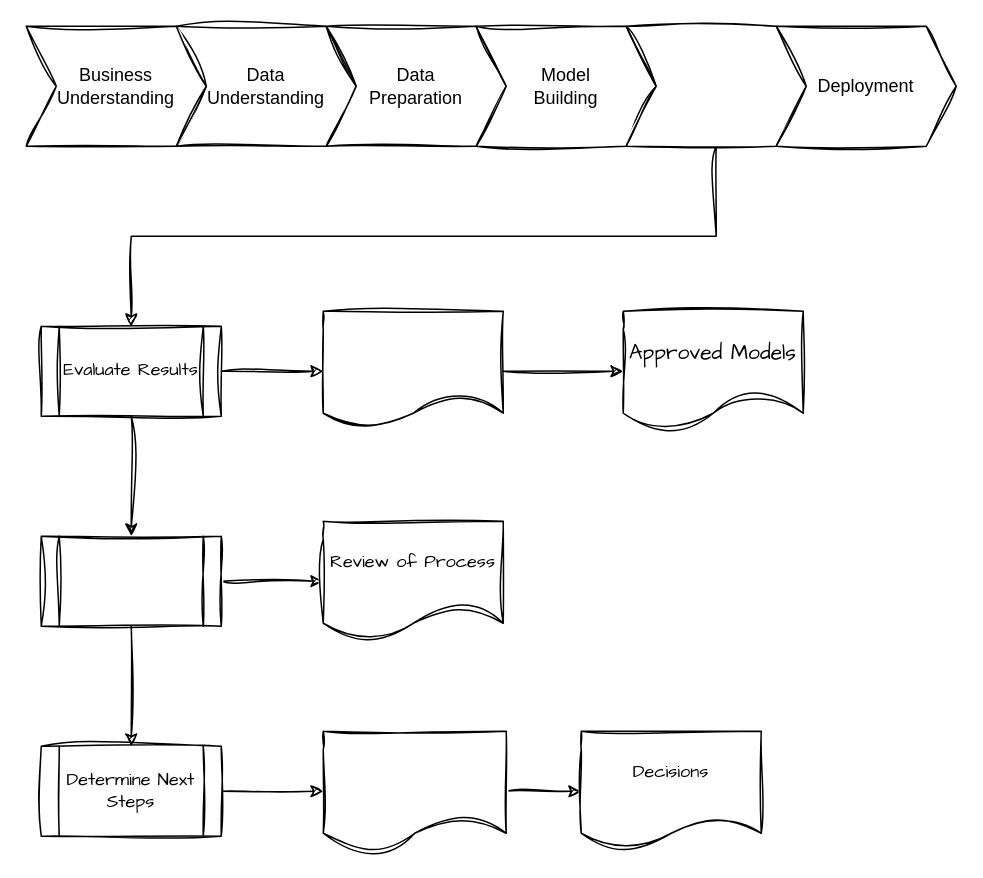
The diagram is 983 pixels wide and 878 high, and some of its shapes have lost their labels. Here are the shapes that lost their labels. From the top down, the centre of each, then its label:
(715,85): Business Evaluation
(412,370): Assessment of Data Mining Results
(130,580): Review Process
(414,790): List of Possible Actions
